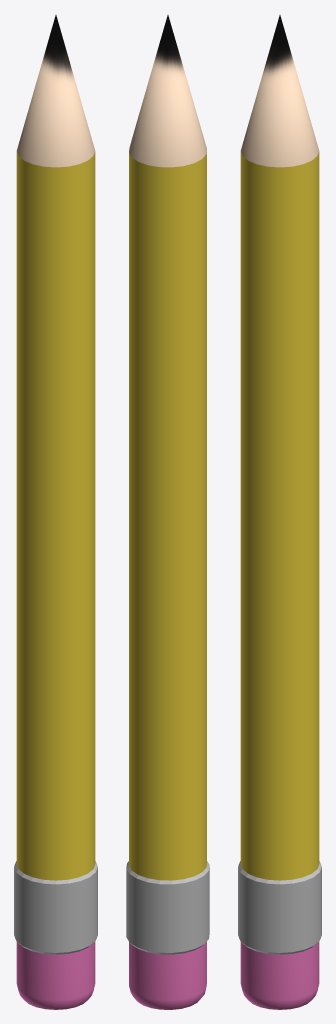
File: Pencil.fbx
The picture shows the model from 3 angles, left to right: view 1: azimuth 90°, elevation 25°; view 2: azimuth 150°, elevation 25°; view 3: azimuth 270°, elevation 25°; orthographic projection.
Visible parts, largest first — view 1: pCylinder1; view 2: pCylinder1; view 3: pCylinder1.
Part boxes in pixels (<box>): pCylinder1: <box>14,15,97,1009</box>; pCylinder1: <box>126,15,209,1009</box>; pCylinder1: <box>238,15,321,1009</box>.
Bounding box in the file's own units: 2.13 × 27.65 × 2.13.
1 material, 1 textured.
